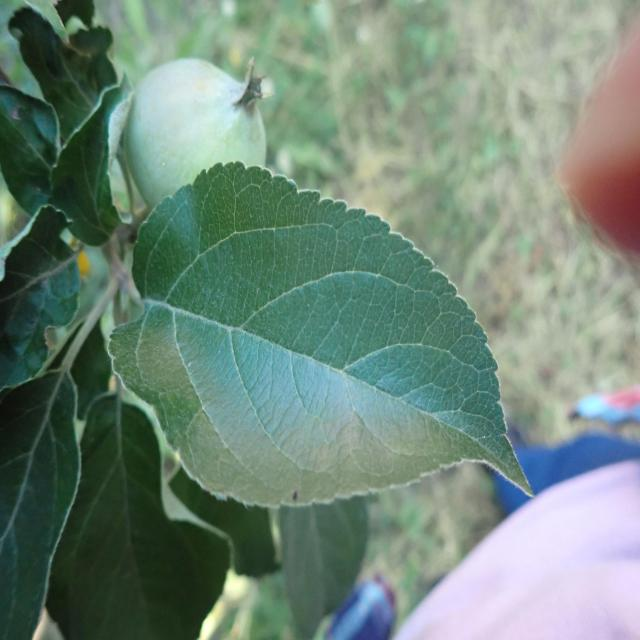healthy: (107, 160, 536, 508), (44, 390, 232, 640), (0, 368, 81, 640), (0, 205, 81, 389)
